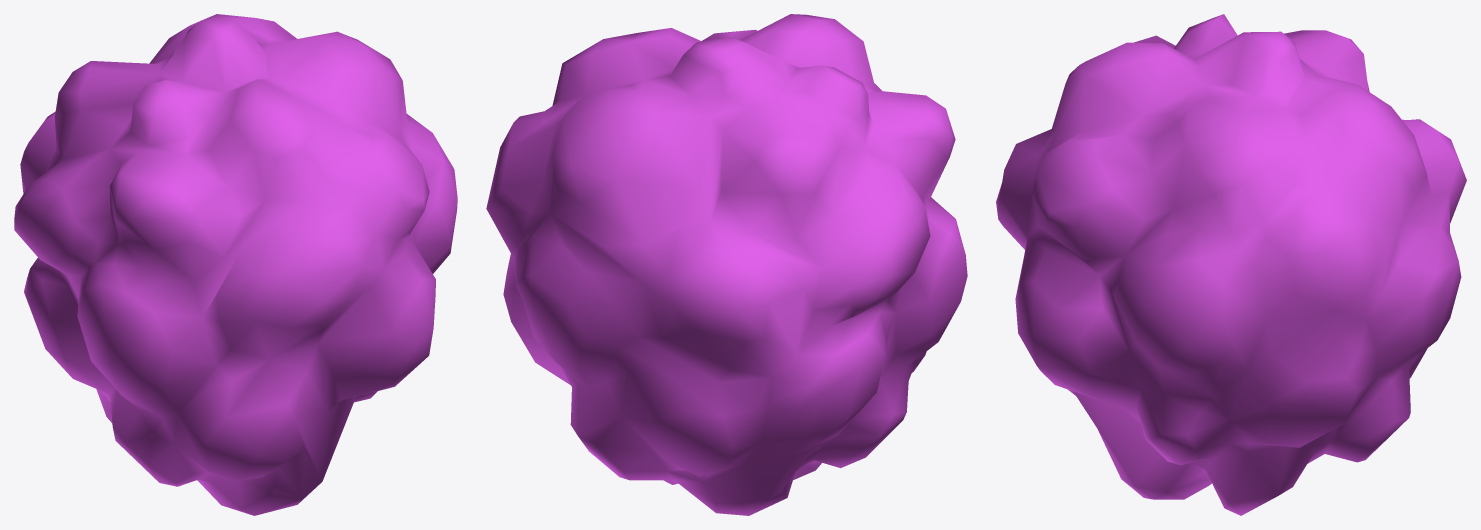
Rendered from purple_blackberry.fbx.
3 views of the same model, side by side, from view 1: azimuth 30°, elevation 25°; view 2: azimuth 150°, elevation 25°; view 3: azimuth 270°, elevation 25° (orthographic). The views are drawn at different scales.
Parts seen in each view (by area): view 1: blackberry; view 2: blackberry; view 3: blackberry.
Boxes of the visible parts, left/top/right/bottom form: blackberry: left=14, top=14, right=457, bottom=515; blackberry: left=486, top=14, right=967, bottom=515; blackberry: left=996, top=14, right=1466, bottom=515.
Size of the model in its own units: 102 by 113 by 106.
